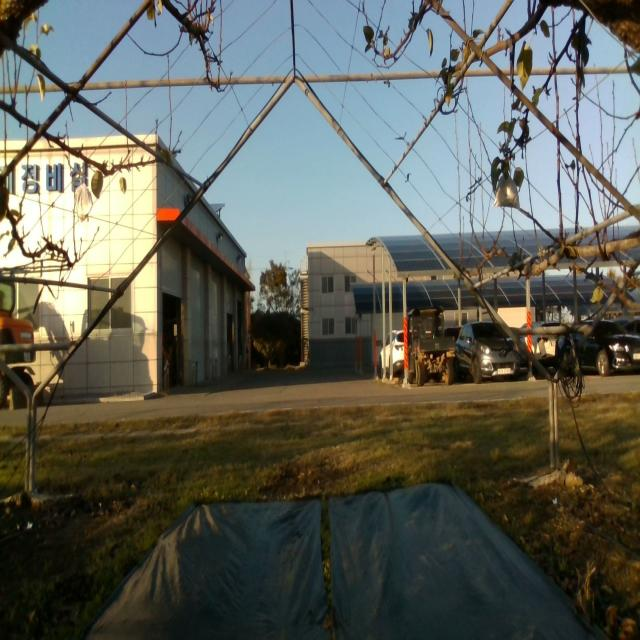pearbags: (491, 172, 521, 214), (75, 181, 93, 223)
